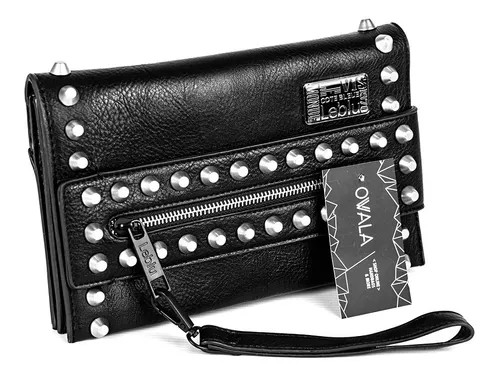cartera: (13, 14, 489, 366)
cuero: (11, 12, 487, 364)
